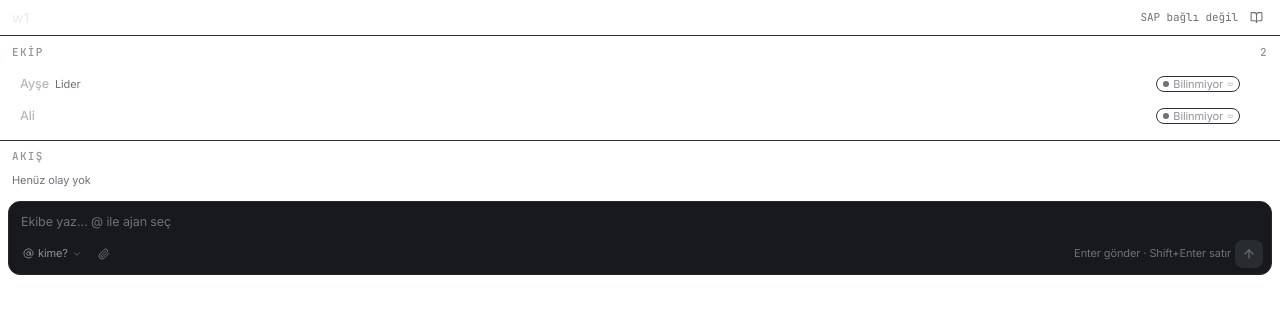
Test: Akış — @ekip ve Lider › ekipte Lider varsa iş yalnız ona gider
In the dropdown named "Ajana mesaj": (640, 222) [17, 206, 1263, 240], type "@ek"
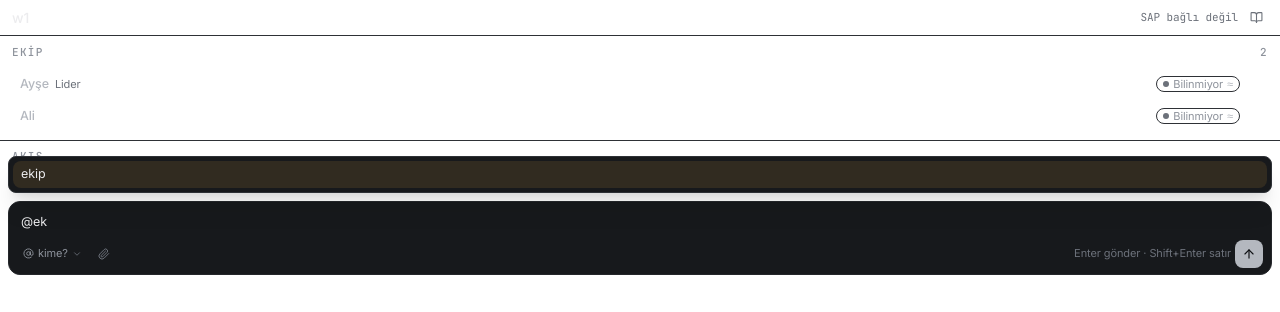
Press Enter in the dropdown named "Ajana mesaj", box [17, 206, 1263, 240]
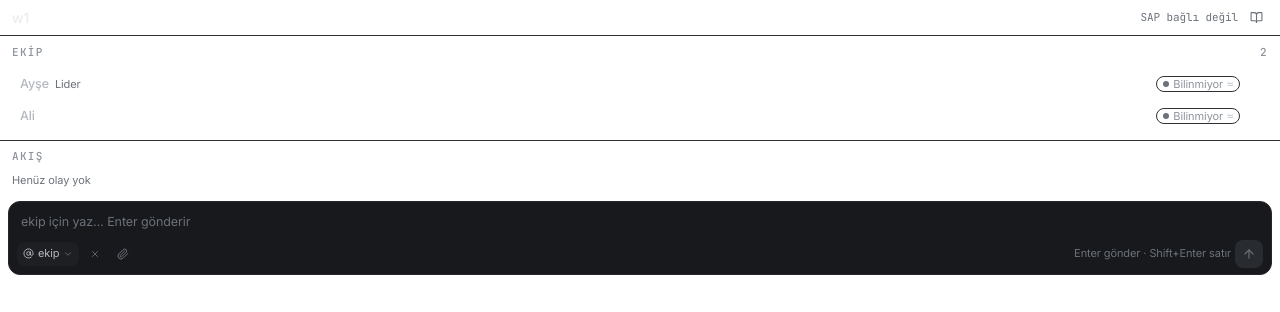
In the dropdown named "Ajana mesaj": (640, 222) [17, 206, 1263, 240], type "README yaz"
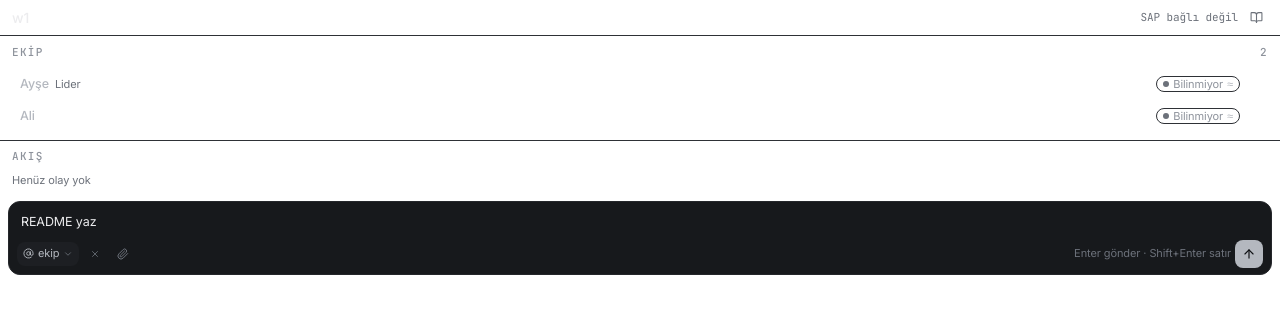
Press Enter in the dropdown named "Ajana mesaj", box [17, 206, 1263, 240]
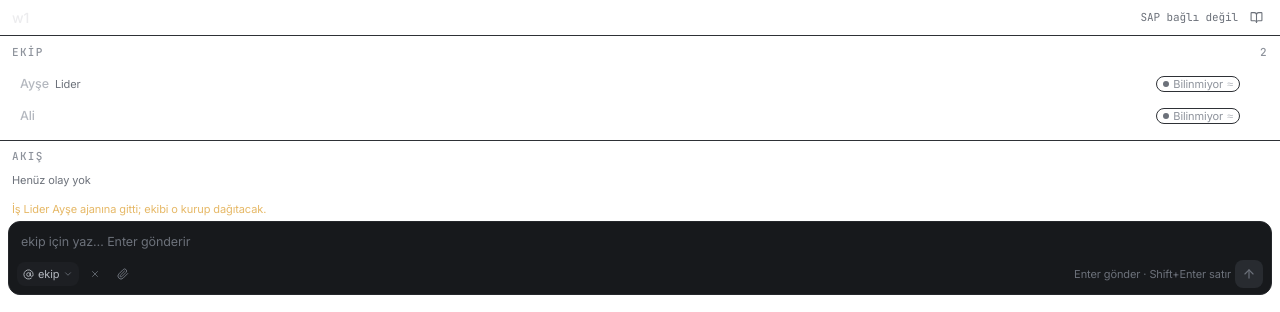
expect the message reads "İş Lider Ayşe ajanına gitti; ekibi o kurup dağıtacak.": met, box [12, 202, 266, 216]
